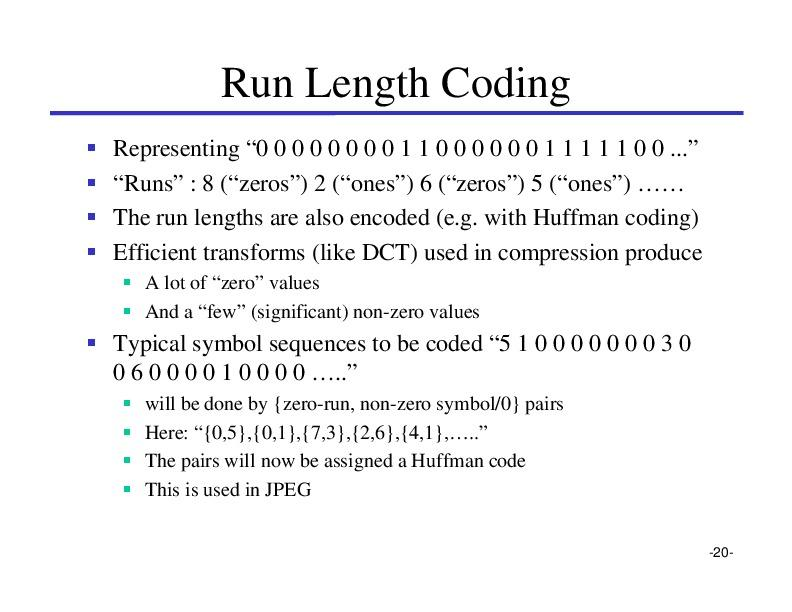paragraph: (106, 128, 723, 517)
title: (215, 58, 579, 111)
